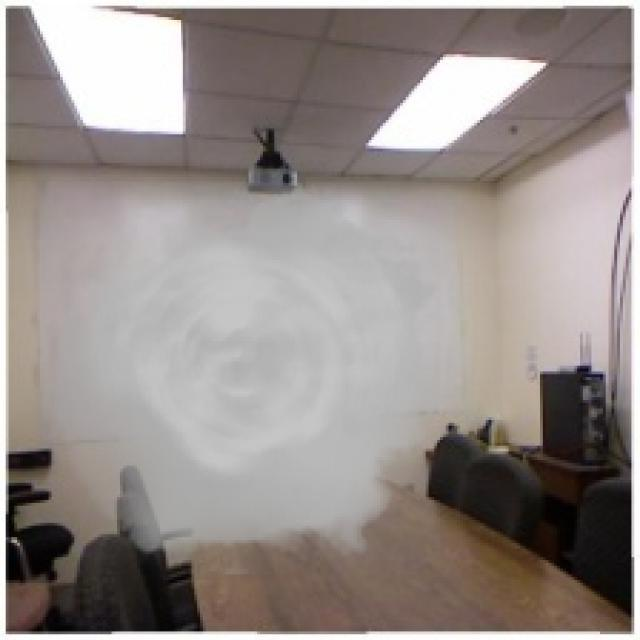Smoke: (48, 175, 443, 574)
